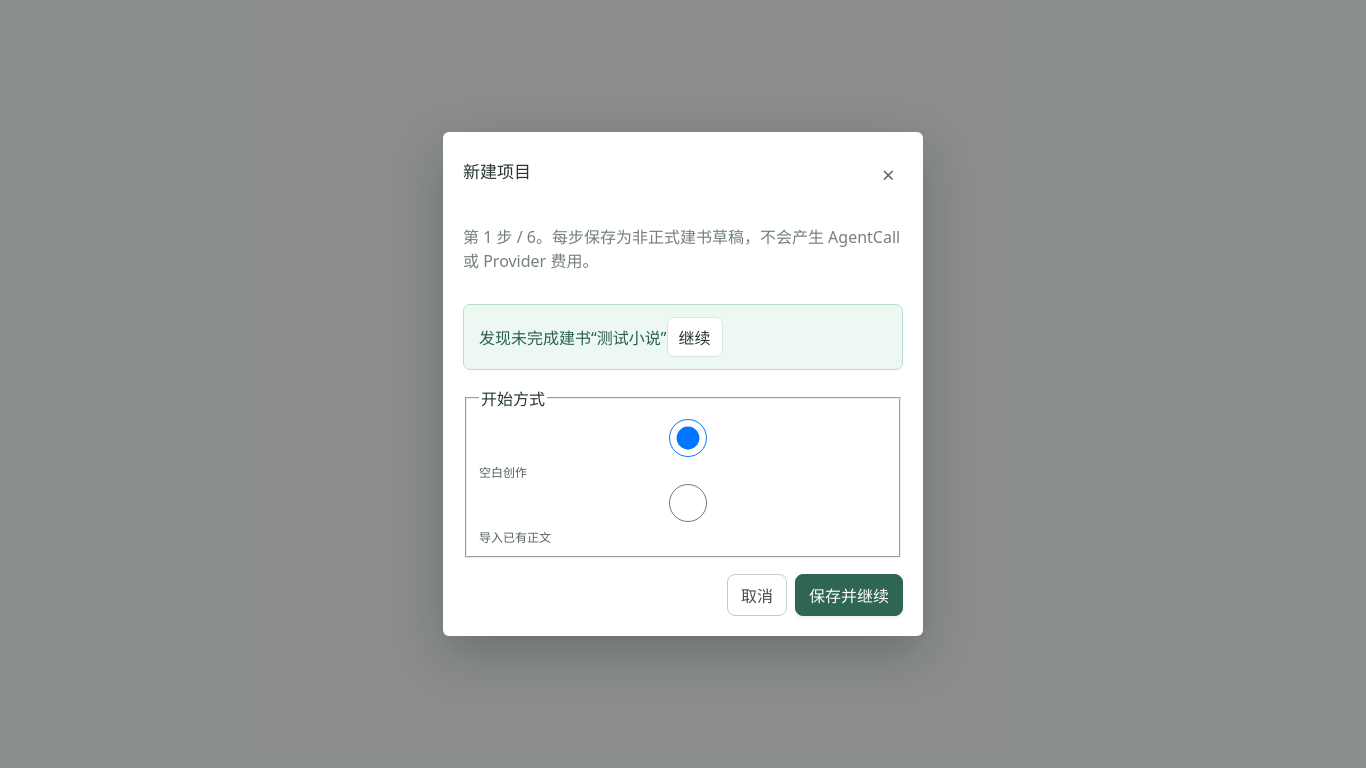
it: project setup import › rejects a restored preview whose immutable SHA binding changed
What coordinates should you click on to do the following:
click the button "继续"
I would click on:
 (694, 337)
Its box is [666,317,722,357].
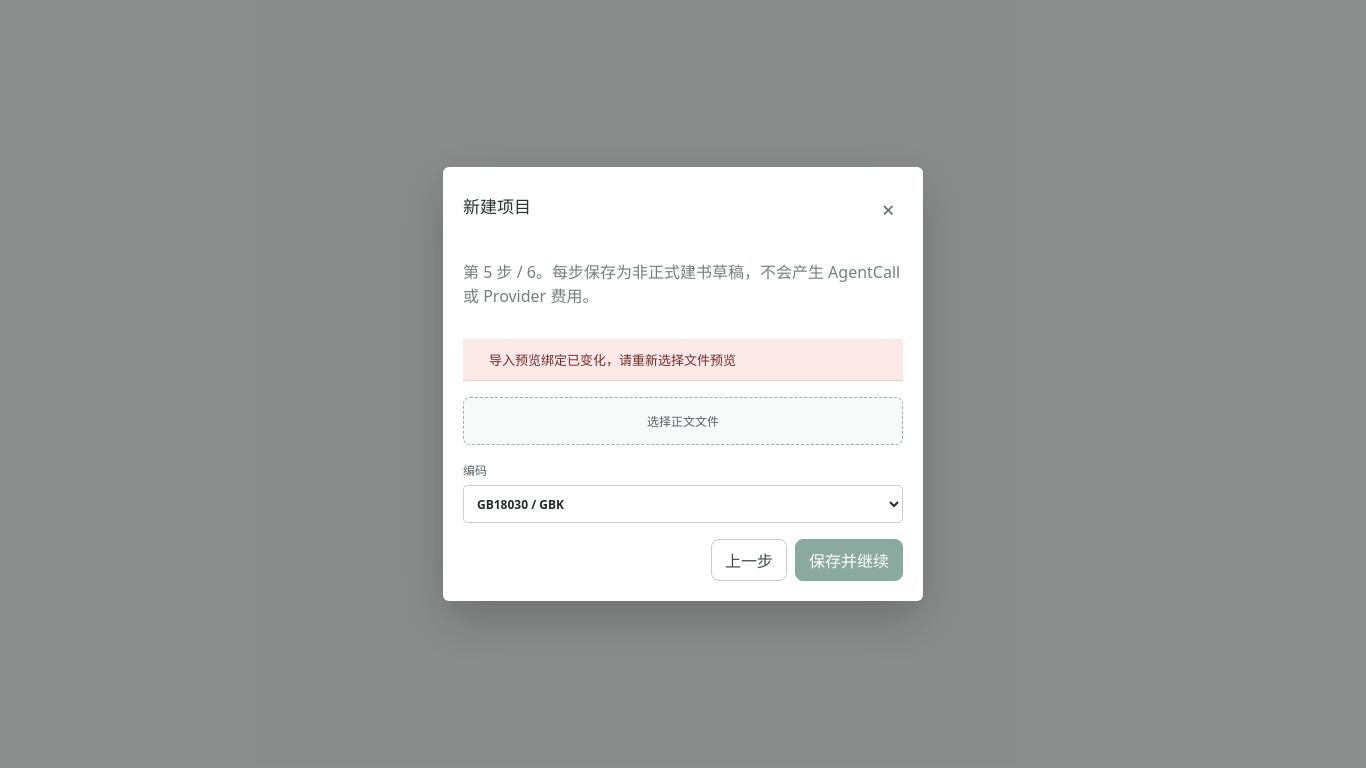
Expected: the message shows "导入预览绑定已变化", [489,351,736,369]
Expected: the button "保存并继续" is disabled, [795,539,903,581]
